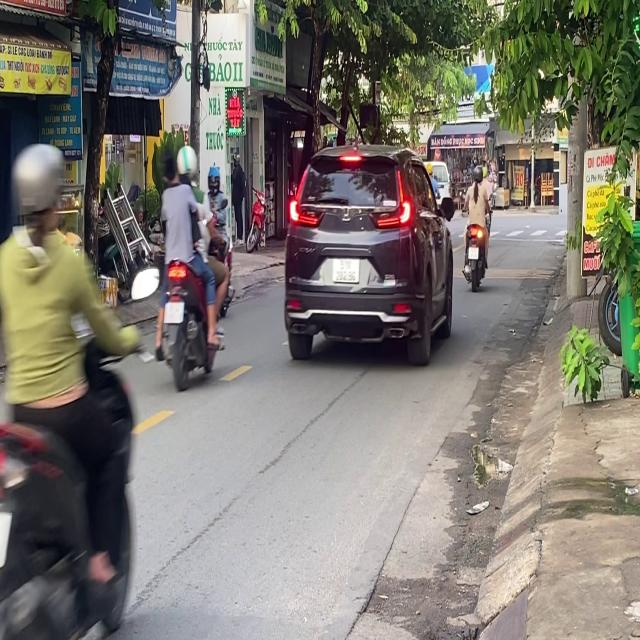helmet: (12, 140, 66, 236), (175, 143, 197, 183), (206, 164, 220, 192)
licenseplate: (0, 137, 145, 639), (152, 140, 227, 389)
motorcyclist: (158, 151, 180, 189)
nohelmet: (0, 510, 9, 567), (164, 302, 183, 322)
